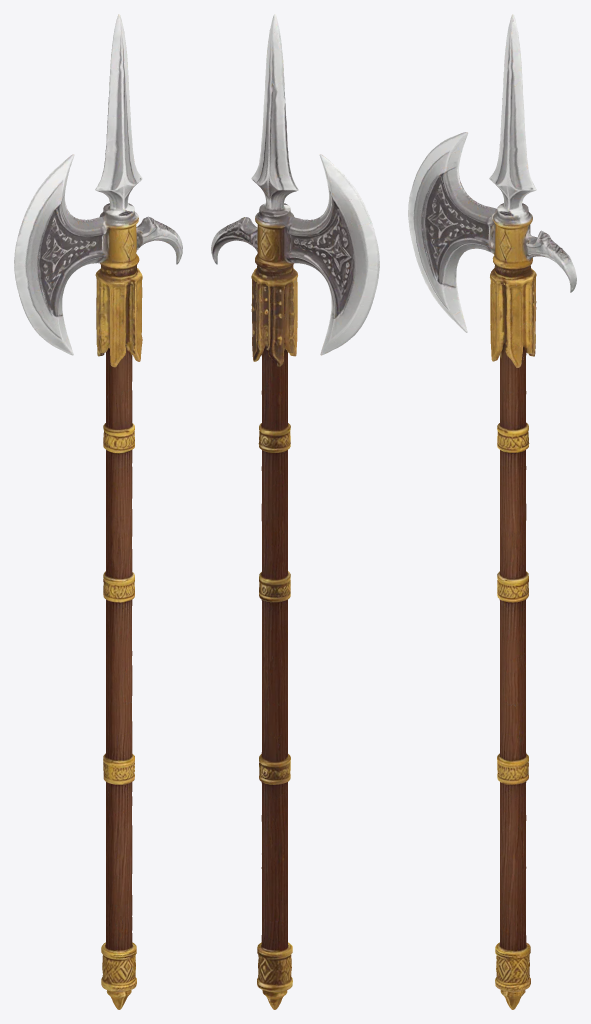
File: Halberd.glb
3 renders of one model, left to right at view 1: azimuth 30°, elevation 25°; view 2: azimuth 150°, elevation 25°; view 3: azimuth 330°, elevation 25°, orthographic.
Bounding box in the file's own units: 0.3364 × 1.9 × 0.0794.
1 material, 1 textured.
